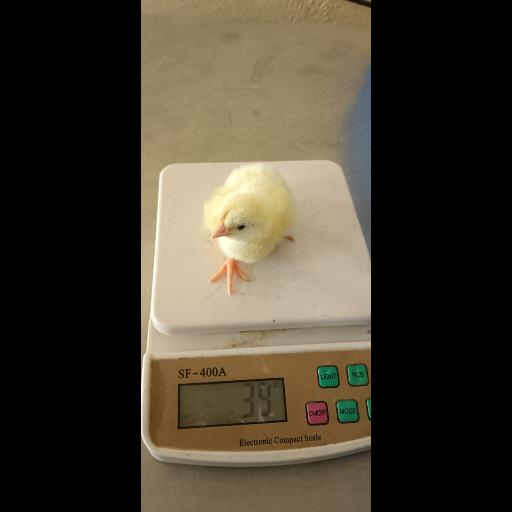chick: (203, 164, 298, 297)
